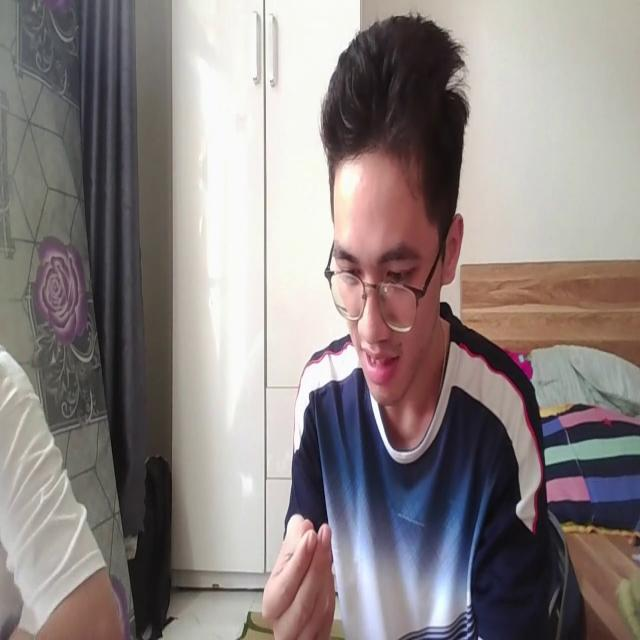student: (256, 10, 557, 640)
